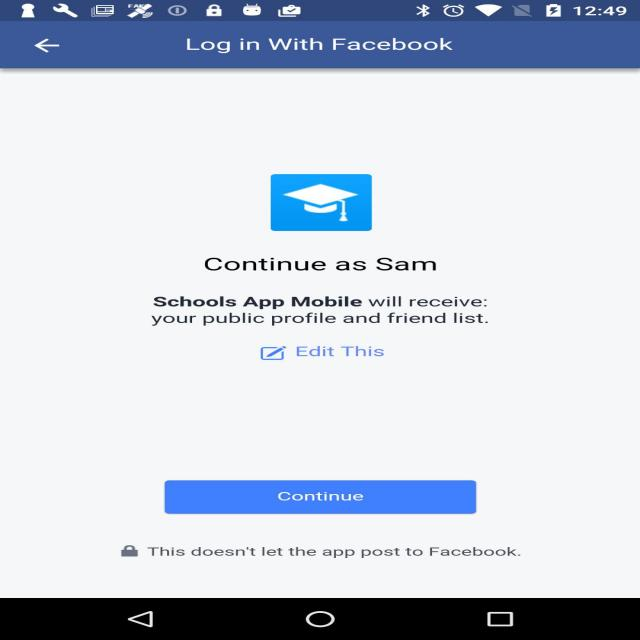button: (150, 475, 505, 521)
text: (139, 153, 520, 386)
